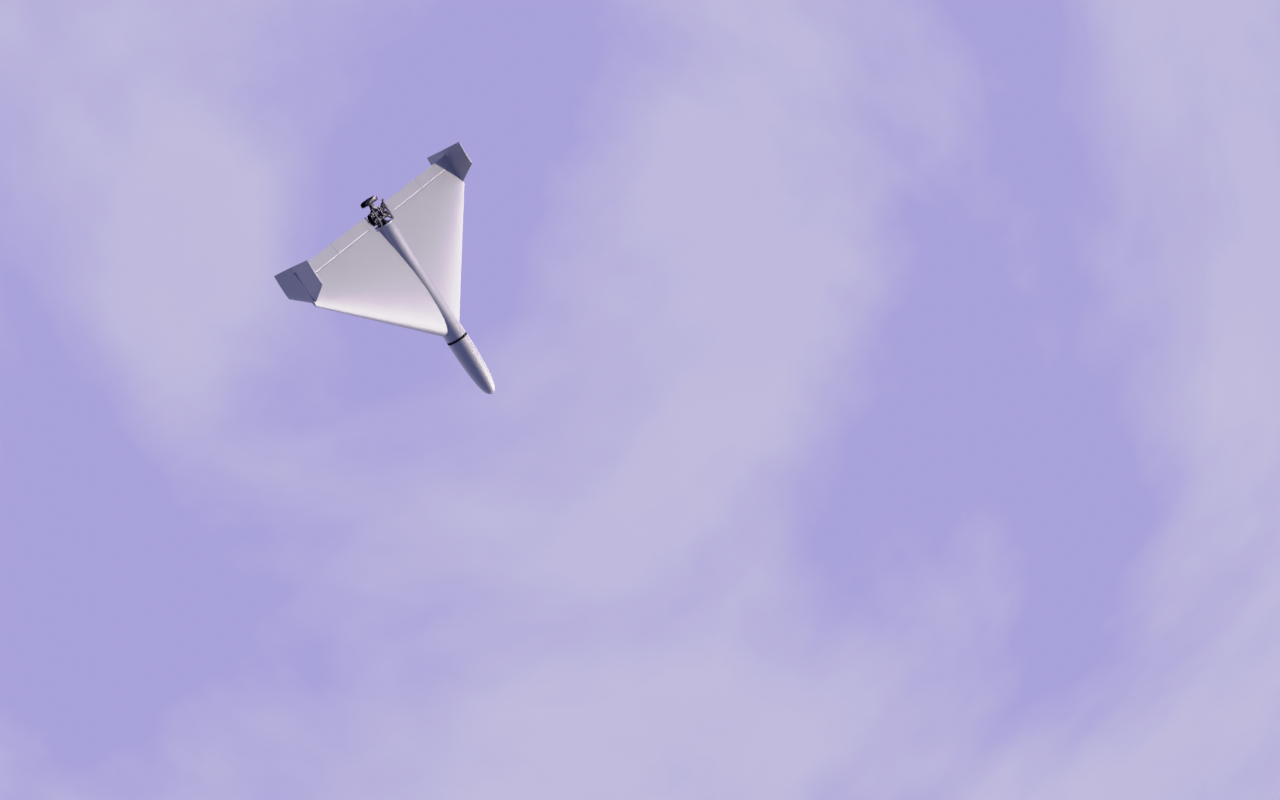shahed: (274, 142, 497, 396)
